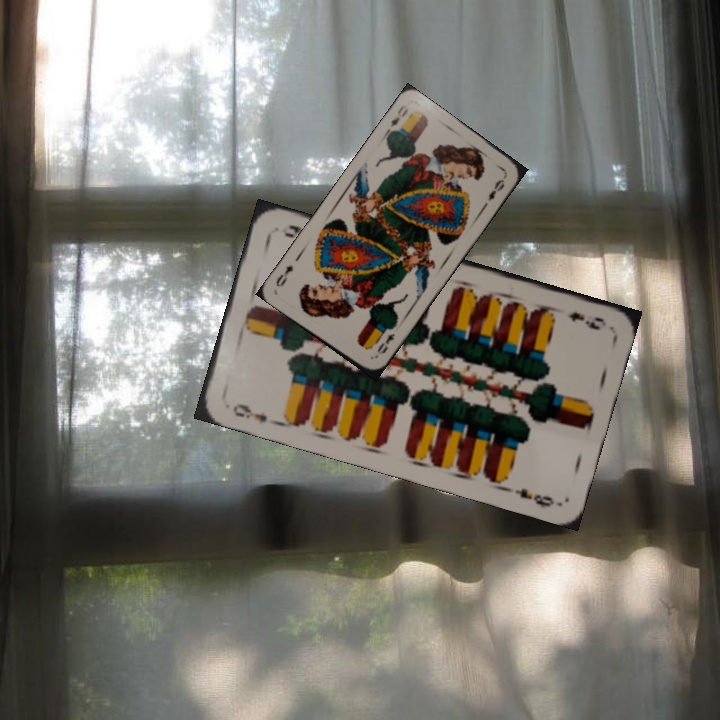E9: (229, 399, 280, 427), (565, 307, 609, 333)
EO: (381, 101, 411, 138), (371, 329, 397, 361)
